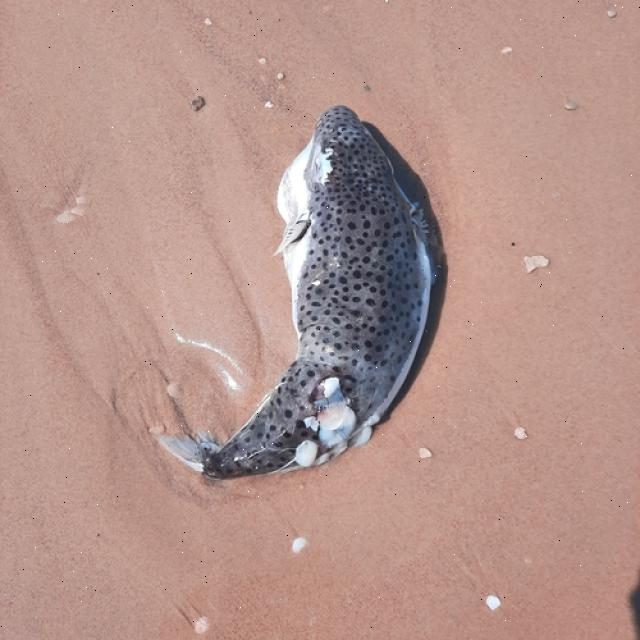Balik: (159, 107, 432, 478)
